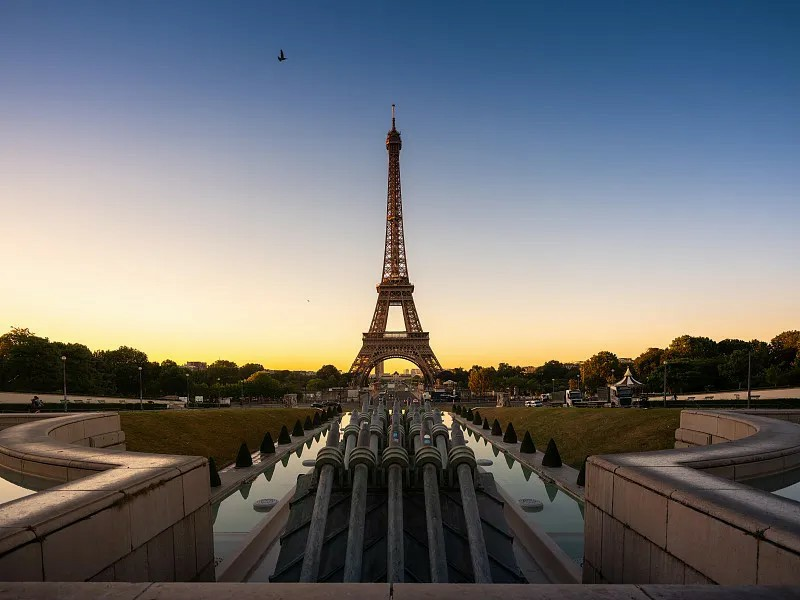Eiffel: (349, 105, 445, 384)
